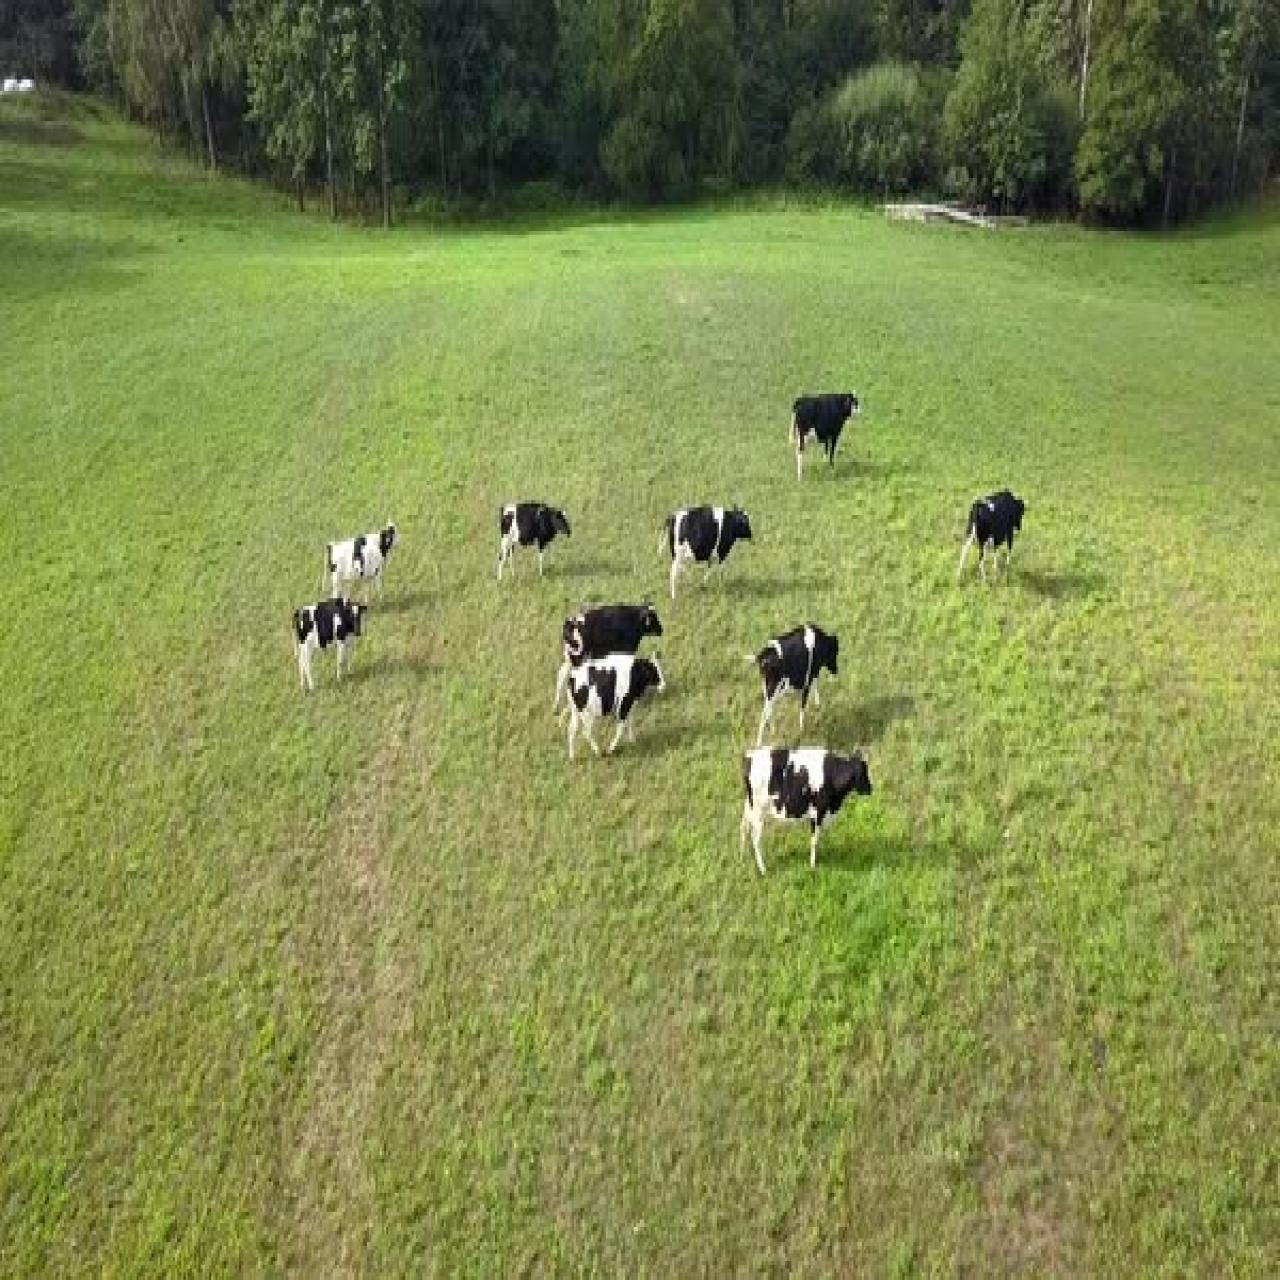cow: (742, 740, 879, 872), (558, 648, 668, 756), (753, 624, 835, 736), (665, 505, 754, 595), (291, 595, 365, 689), (788, 386, 862, 474), (561, 601, 666, 661), (324, 524, 402, 599), (496, 502, 572, 573), (967, 490, 1032, 566)
